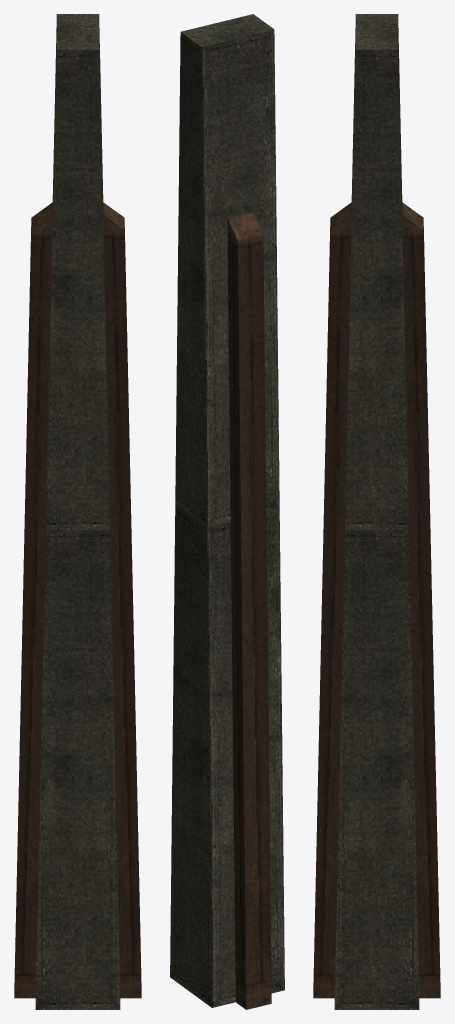
Rendered from metal_fence_hr_1_pillar_1_tall.glb.
The picture shows the model from 3 angles, left to right: view 1: azimuth 90°, elevation 25°; view 2: azimuth 210°, elevation 25°; view 3: azimuth 270°, elevation 25°; orthographic projection.
Parts seen in each view (by area): view 1: metal_fence_hr_1_pillar_1_tall; view 2: metal_fence_hr_1_pillar_1_tall; view 3: metal_fence_hr_1_pillar_1_tall.
Part boxes in pixels (x1,y1,x2,y2): metal_fence_hr_1_pillar_1_tall: (14,14,141,1009); metal_fence_hr_1_pillar_1_tall: (170,14,284,1009); metal_fence_hr_1_pillar_1_tall: (313,14,440,1009).
Bounding box in the file's own units: 0.4 × 5 × 0.6.
Materials: 1 (1 with a texture image).
